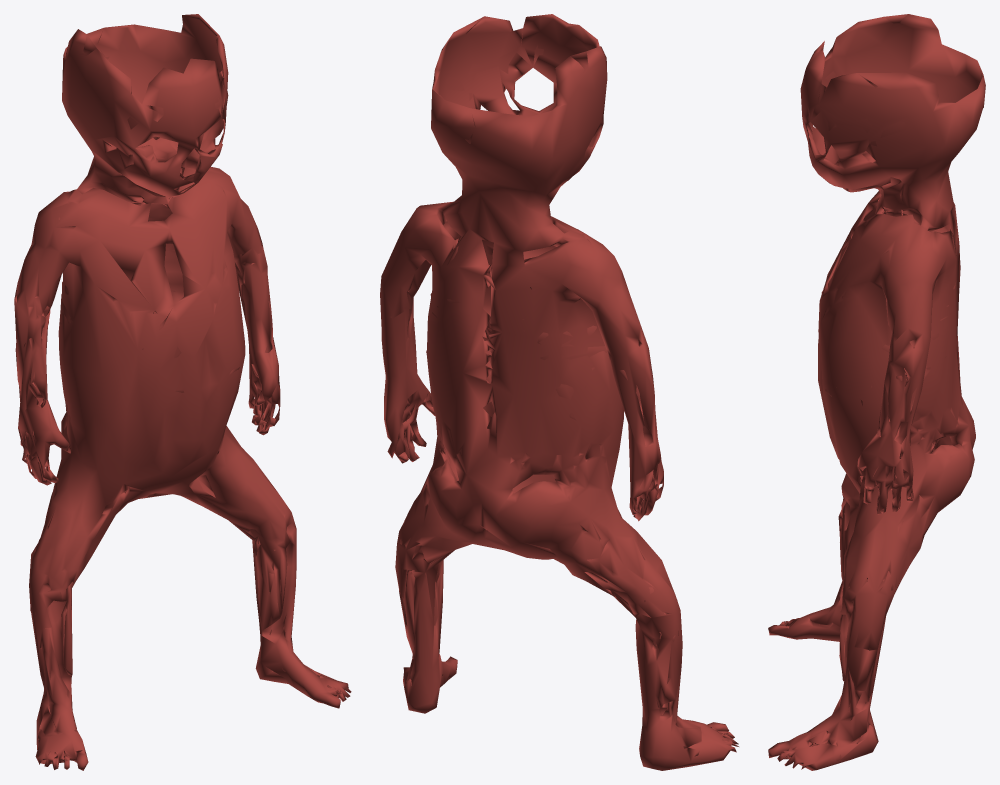
The model's file is pediatric_neonate_male.muscular.LOD3.glb.
3 views of the same model, side by side, from view 1: azimuth 30°, elevation 25°; view 2: azimuth 150°, elevation 25°; view 3: azimuth 270°, elevation 25° (orthographic). The views are drawn at different scales.
Visible parts, largest first — view 1: PEDIATRIC.NEONATE.MALE.MUSCULAR.MUSCLE; view 2: PEDIATRIC.NEONATE.MALE.MUSCULAR.MUSCLE; view 3: PEDIATRIC.NEONATE.MALE.MUSCULAR.MUSCLE.
Boxes of the visible parts, bbox=[...] form: PEDIATRIC.NEONATE.MALE.MUSCULAR.MUSCLE: bbox=[14, 14, 351, 770]; PEDIATRIC.NEONATE.MALE.MUSCULAR.MUSCLE: bbox=[380, 14, 738, 770]; PEDIATRIC.NEONATE.MALE.MUSCULAR.MUSCLE: bbox=[768, 14, 985, 770].
Bounding box in the file's own units: 0.2234 × 0.4626 × 0.1379.
